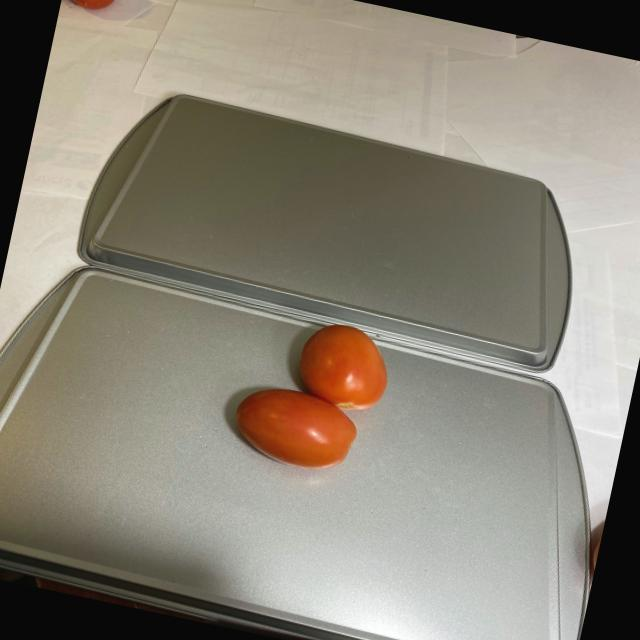tomato: (227, 305, 401, 482), (59, 0, 128, 20)
